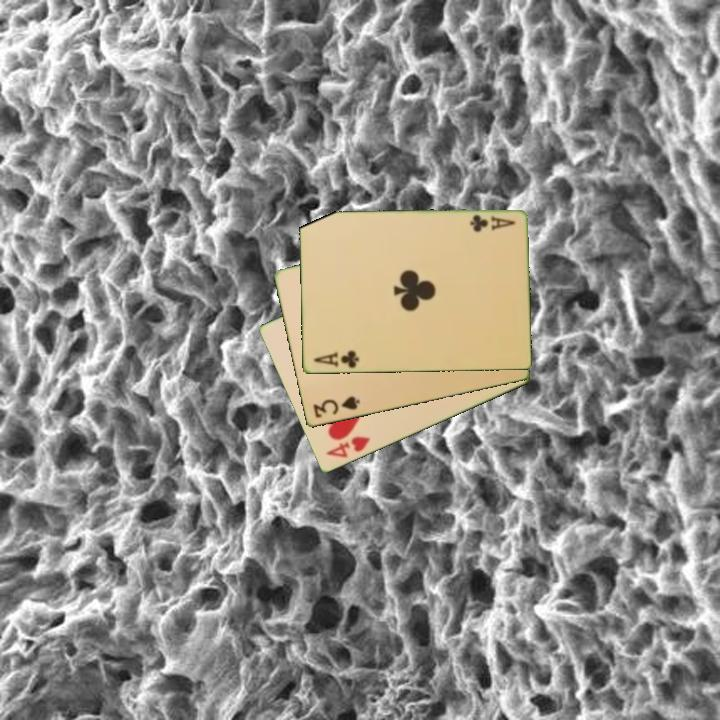3s: (309, 393, 363, 421)
4h: (322, 433, 373, 461)
Ac: (310, 347, 362, 371), (466, 211, 518, 235)
